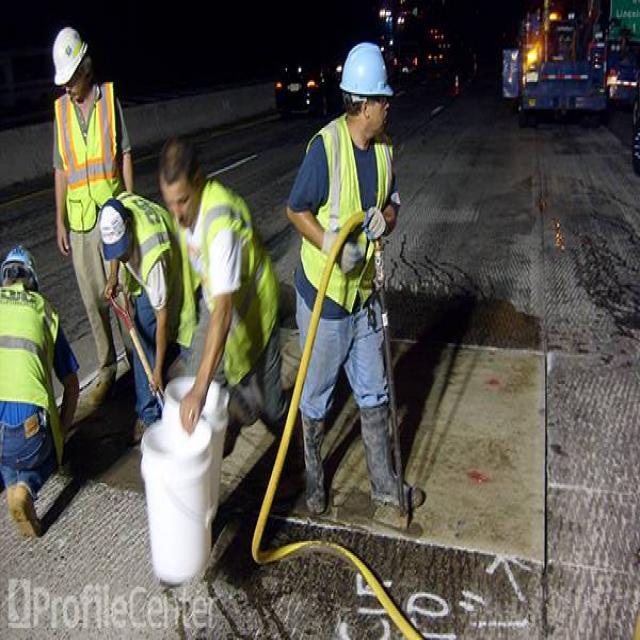Reflective-Jacket: (297, 118, 402, 321), (195, 174, 284, 381), (52, 82, 126, 234), (114, 188, 189, 328), (0, 287, 62, 425)
Safety-Helmet: (335, 34, 397, 108), (49, 24, 92, 87), (0, 239, 39, 287), (98, 200, 129, 259)
